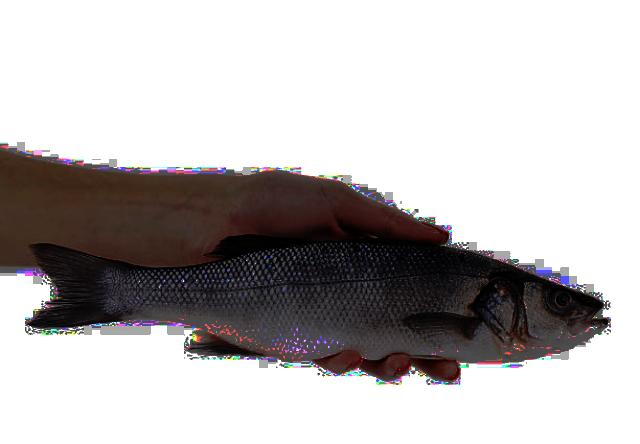Healthy Fish: (26, 235, 609, 366)
